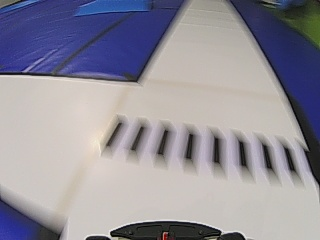CrossWalk: (100, 123, 302, 173)
